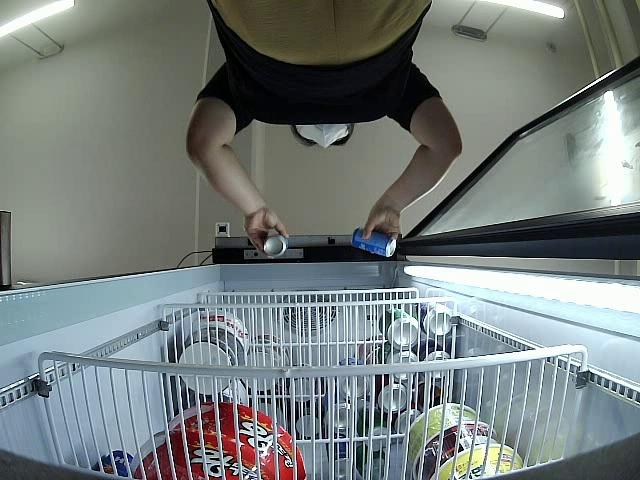00_hand: (245, 207, 290, 255), (361, 200, 403, 251)
15_letsbe: (350, 227, 395, 257)
